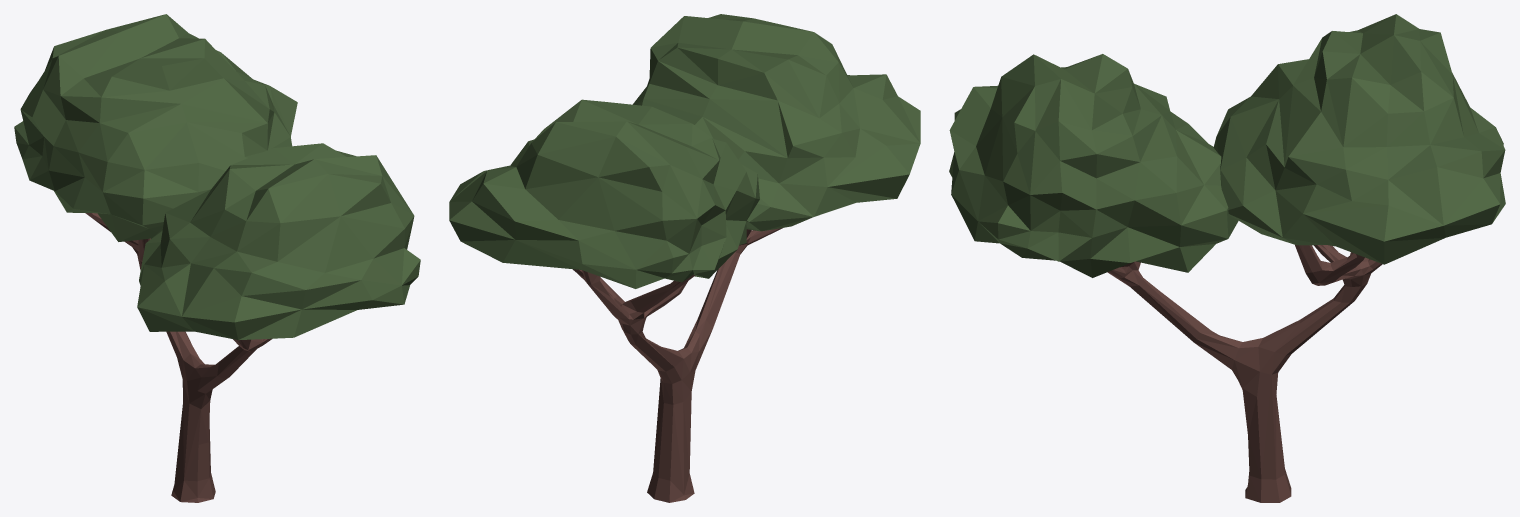
The model's file is CommonTree_1_far.glb.
3 views of the same model, side by side, from view 1: azimuth 30°, elevation 25°; view 2: azimuth 150°, elevation 25°; view 3: azimuth 270°, elevation 25° (orthographic). The views are drawn at different scales.
Visible parts, largest first — view 1: CommonTree_1; view 2: CommonTree_1; view 3: CommonTree_1.
Part boxes in pixels (left/top/right/bottom): CommonTree_1: left=14, top=14, right=420, bottom=502; CommonTree_1: left=449, top=14, right=920, bottom=502; CommonTree_1: left=949, top=14, right=1505, bottom=502.
Size of the model in its own units: 1.89 by 2.48 by 2.77.
